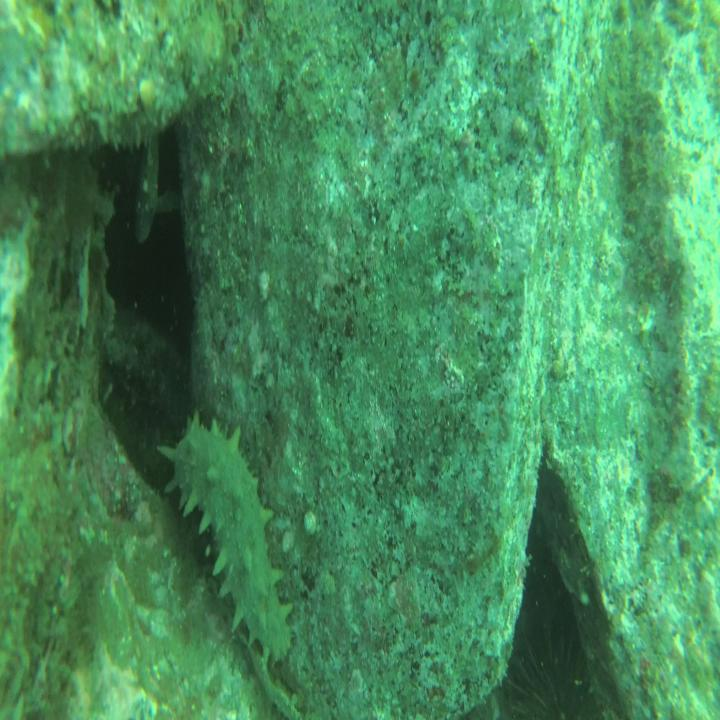echinus: (504, 627, 604, 720)
holothurian: (152, 408, 296, 669)
